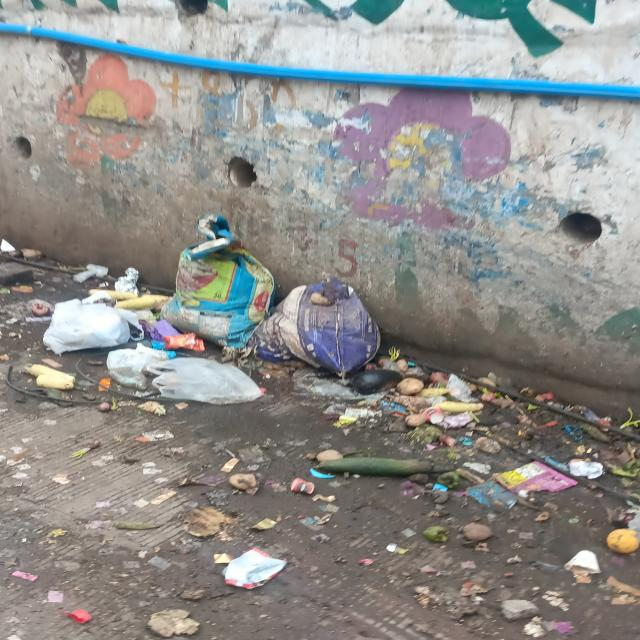garbage: (50, 239, 484, 426)
